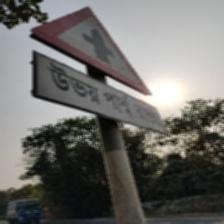Crossroad: (27, 4, 164, 135)
